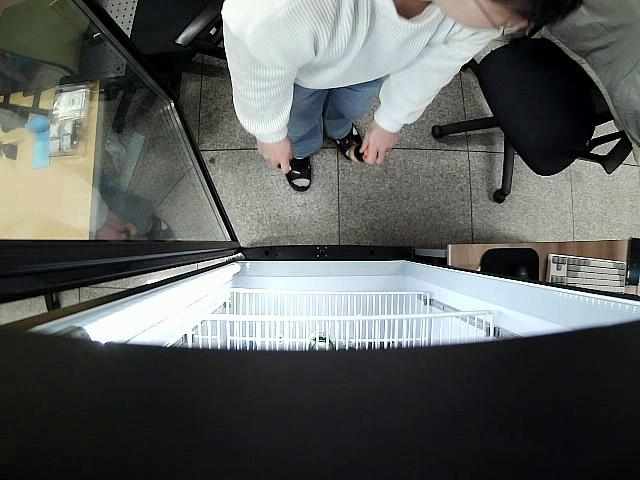00_hand: (359, 120, 399, 164), (255, 133, 293, 175)
